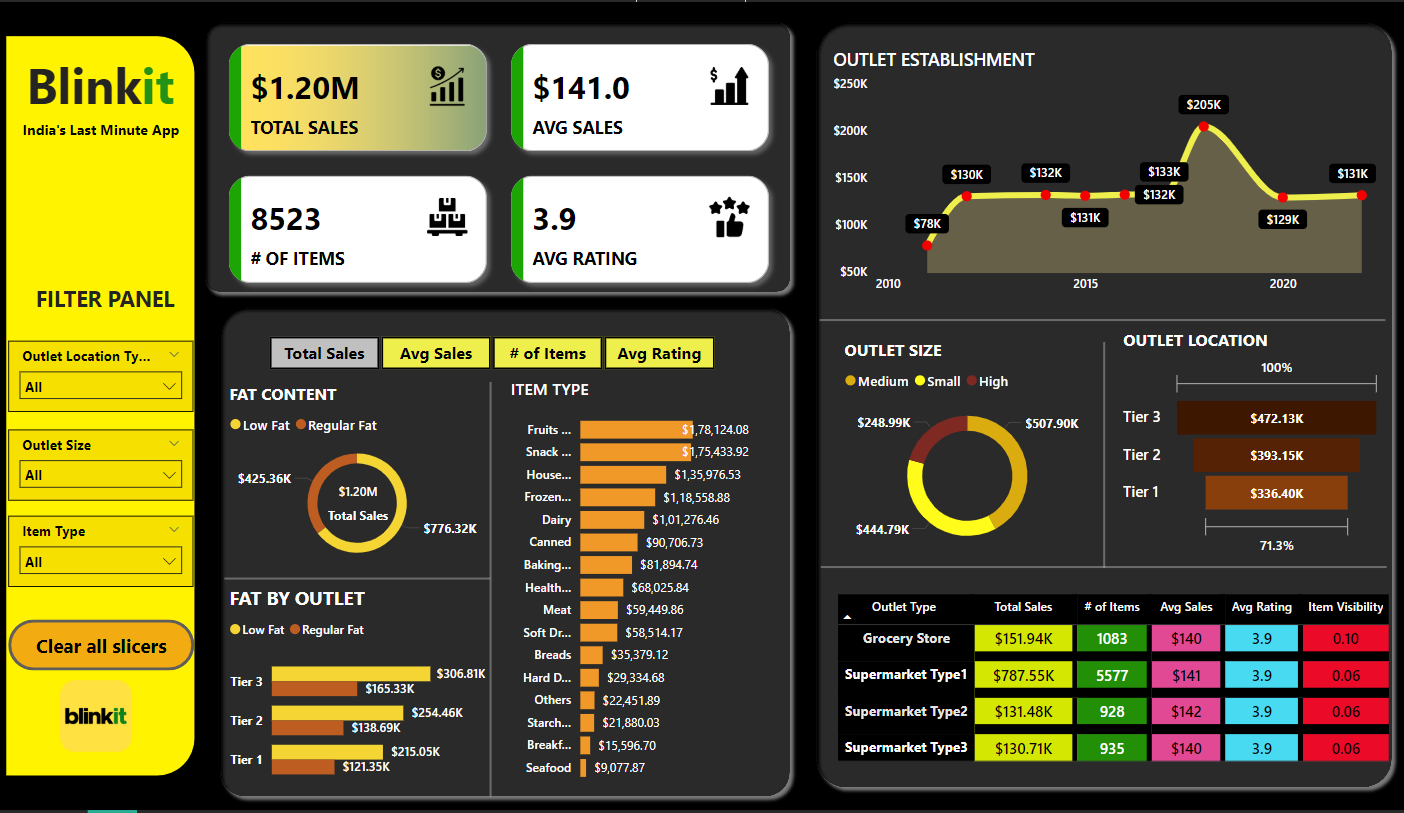

The page's visual inventory and layout, read from the dashboard file:
{"tool":"powerbi","page":{"name":"Page 1","canvas":[1400,800],"ordinal":0},"visuals":[{"type":"shape","box":[197.5,12.5,595,282.5],"z":0},{"type":"shape","box":[0,24.5,204.5,749.8],"z":1000},{"type":"textbox","box":[15,45,174.5,81.8],"z":2000},{"type":"textbox","box":[6.8,111.8,190.9,30],"z":3000},{"type":"shape","box":[212.9,294.3,580,500],"z":4000},{"type":"cardVisual","fields":{"Data":["BlinkIT Grocery Data.Total Sales","BlinkIT Grocery Data.Avg Sales","BlinkIT Grocery Data.# of Items","BlinkIT Grocery Data.Avg Rating"]},"box":[212.5,25,568.8,270],"z":5000},{"type":"donutChart","title":"FAT CONTENT","fields":{"Y":["BlinkIT Grocery Data.Total Sales"],"Category":["BlinkIT Grocery Data.Item Fat Content"]},"box":[225.7,375.7,262.9,188.6],"z":6000},{"type":"slicer","fields":{"Values":["Metrics.Metrics"]},"box":[243.8,323.8,490,46.2],"z":7000},{"type":"cardVisual","fields":{"Data":["BlinkIT Grocery Data.Total Sales"]},"box":[307.1,458.6,101.4,72.9],"z":8000},{"type":"clusteredBarChart","title":"FAT BY OUTLET","fields":{"Y":["BlinkIT Grocery Data.Total Sales"],"Category":["BlinkIT Grocery Data.Outlet Location Type"],"Series":["BlinkIT Grocery Data.Item Fat Content"]},"box":[225.1,576.4,263.5,210.3],"z":9000},{"type":"shape","box":[225.7,558.6,262.9,22.9],"z":10000},{"type":"shape","box":[452.9,375.7,71.4,410],"z":11000},{"type":"barChart","title":"ITEM TYPE","fields":{"Y":["BlinkIT Grocery Data.Total Sales"],"Category":["BlinkIT Grocery Data.Item Type"]},"box":[502.9,371.4,245.7,410],"z":12000},{"type":"shape","box":[802.9,12.9,585.7,772.9],"z":13000},{"type":"lineChart","title":"OUTLET ESTABLISHMENT","fields":{"Category":["BlinkIT Grocery Data.Outlet Establishment Year"],"Y":["BlinkIT Grocery Data.Total Sales"]},"box":[822.9,44.3,547.1,252.9],"z":14000},{"type":"shape","box":[814.3,297.1,560,35.7],"z":15000},{"type":"donutChart","title":"OUTLET SIZE","fields":{"Y":["BlinkIT Grocery Data.Total Sales"],"Category":["BlinkIT Grocery Data.Outlet Size"]},"box":[833.3,332.2,253.3,221.1],"z":16000},{"type":"shape","box":[1060,336.7,71.1,223.3],"z":17000},{"type":"funnel","title":"OUTLET LOCATION","fields":{"Y":["BlinkIT Grocery Data.Total Sales"],"Category":["BlinkIT Grocery Data.Outlet Location Type"]},"box":[1108.9,323.3,265.6,230],"z":18000},{"type":"shape","box":[815.6,543.3,560,32.2],"z":19000},{"type":"pivotTable","fields":{"Rows":["BlinkIT Grocery Data.Outlet Type"],"Values":["BlinkIT Grocery Data.Total Sales","BlinkIT Grocery Data.# of Items","BlinkIT Grocery Data.Avg Sales","BlinkIT Grocery Data.Avg Rating","Avg(BlinkIT Grocery Data.Item Visibility)"]},"box":[827.8,581.1,561.1,187.8],"z":20000},{"type":"slicer","fields":{"Values":["BlinkIT Grocery Data.Outlet Location Type"]},"box":[11.4,335.7,182.9,70],"z":21000},{"type":"slicer","fields":{"Values":["BlinkIT Grocery Data.Outlet Size"]},"box":[11.4,422.9,182.9,70],"z":22000},{"type":"slicer","fields":{"Values":["BlinkIT Grocery Data.Item Type"]},"box":[11.4,508.6,182.9,70],"z":23000},{"type":"textbox","box":[20,272.9,174.3,42.9],"z":24000},{"type":"actionButton","box":[10.9,610.8,184.1,50.4],"z":25000},{"type":"image","box":[53.2,661.2,90,90],"z":26000}]}

Visuals, with their boxes in screenshot pixels (x1, y1, x2, y2), scaled from the page's 1400x800 canvas onto the 1404x813 screenshot:
shape: (x1=198, y1=13, x2=795, y2=300)
shape: (x1=0, y1=25, x2=205, y2=787)
textbox: (x1=15, y1=46, x2=190, y2=129)
textbox: (x1=7, y1=114, x2=198, y2=144)
shape: (x1=214, y1=299, x2=795, y2=807)
cardVisual - BlinkIT Grocery Data.Total Sales x BlinkIT Grocery Data.Avg Sales: (x1=213, y1=25, x2=784, y2=300)
"FAT CONTENT" donutChart: (x1=226, y1=382, x2=490, y2=573)
slicer - Metrics.Metrics: (x1=244, y1=329, x2=736, y2=376)
cardVisual - BlinkIT Grocery Data.Total Sales: (x1=308, y1=466, x2=410, y2=540)
"FAT BY OUTLET" clusteredBarChart: (x1=226, y1=586, x2=490, y2=799)
shape: (x1=226, y1=568, x2=490, y2=591)
shape: (x1=454, y1=382, x2=526, y2=798)
"ITEM TYPE" barChart: (x1=504, y1=377, x2=751, y2=794)
shape: (x1=805, y1=13, x2=1393, y2=799)
"OUTLET ESTABLISHMENT" lineChart: (x1=825, y1=45, x2=1374, y2=302)
shape: (x1=817, y1=302, x2=1378, y2=338)
"OUTLET SIZE" donutChart: (x1=836, y1=338, x2=1090, y2=562)
shape: (x1=1063, y1=342, x2=1134, y2=569)
"OUTLET LOCATION" funnel: (x1=1112, y1=329, x2=1378, y2=562)
shape: (x1=818, y1=552, x2=1380, y2=585)
pivotTable - BlinkIT Grocery Data.Outlet Type x BlinkIT Grocery Data.Total Sales: (x1=830, y1=591, x2=1393, y2=781)
slicer - BlinkIT Grocery Data.Outlet Location Type: (x1=11, y1=341, x2=195, y2=412)
slicer - BlinkIT Grocery Data.Outlet Size: (x1=11, y1=430, x2=195, y2=501)
slicer - BlinkIT Grocery Data.Item Type: (x1=11, y1=517, x2=195, y2=588)
textbox: (x1=20, y1=277, x2=195, y2=321)
actionButton: (x1=11, y1=621, x2=196, y2=672)
image: (x1=53, y1=672, x2=144, y2=763)
